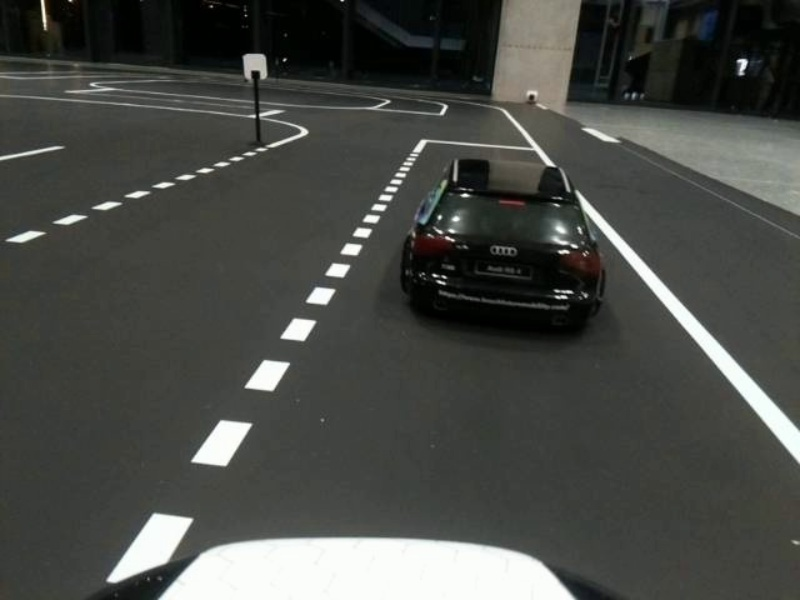car: (384, 149, 630, 347)
